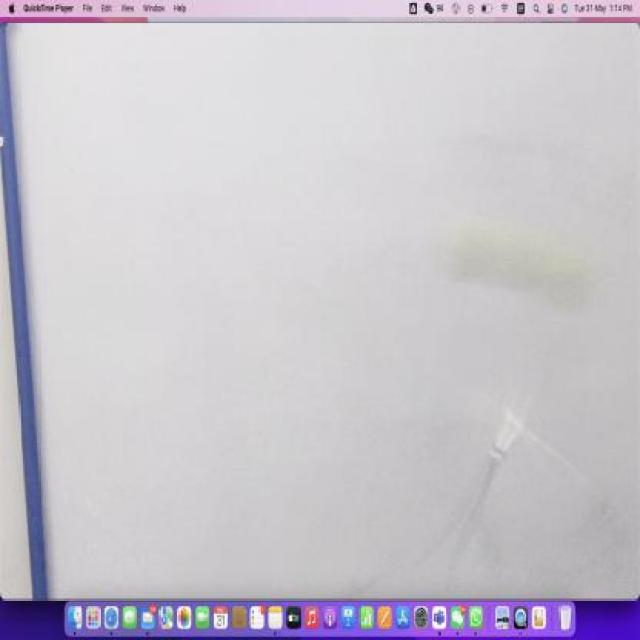baseball: (454, 204, 586, 302)
